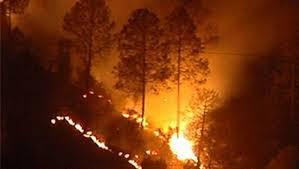fire: (120, 106, 203, 167), (51, 112, 110, 150)
